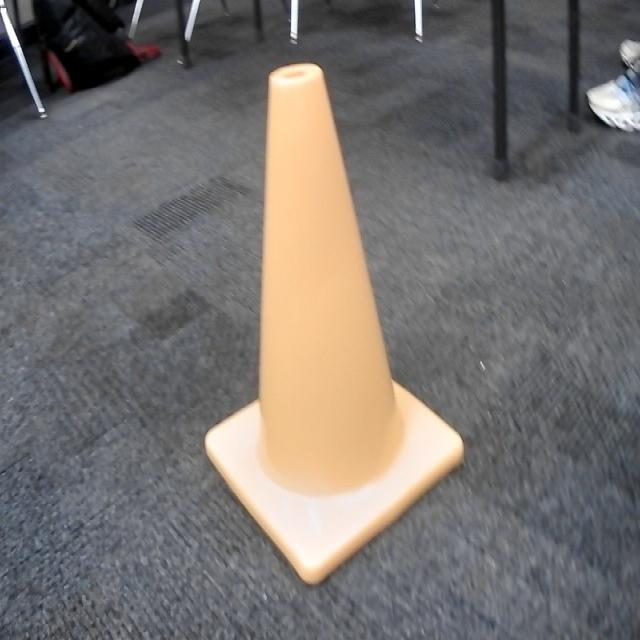cone: (205, 60, 466, 588)
